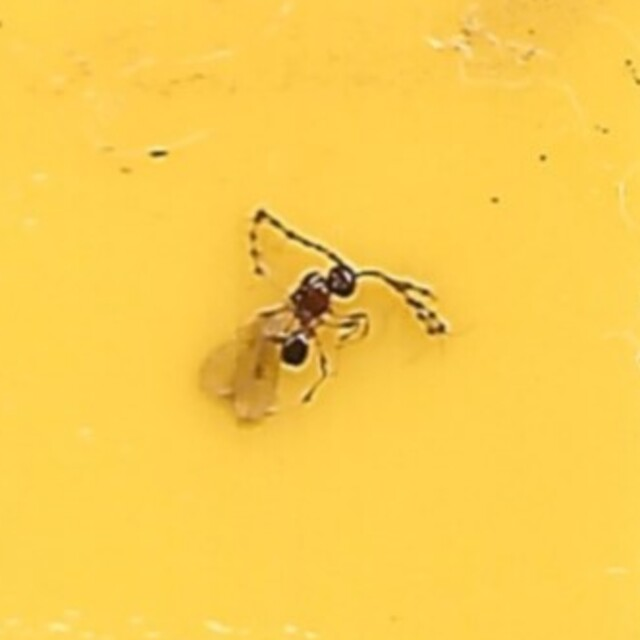Hymenoptera: (193, 203, 447, 437)
